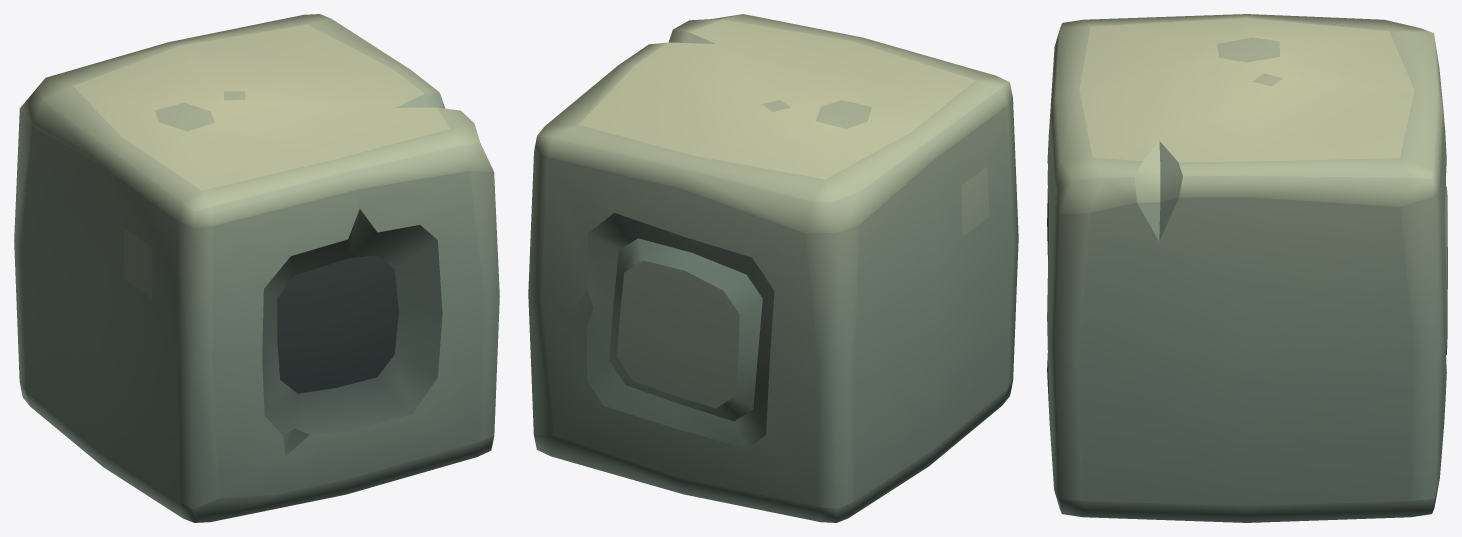
The model's file is Obstacle_MushroomFields.fbx.
3 views of the same model, side by side, from view 1: azimuth 30°, elevation 25°; view 2: azimuth 150°, elevation 25°; view 3: azimuth 270°, elevation 25° (orthographic). The views are drawn at different scales.
Visible parts, largest first — view 1: Obstacle_MushroomFields; view 2: Obstacle_MushroomFields; view 3: Obstacle_MushroomFields.
Part boxes in pixels (x1,y1,x2,y2): Obstacle_MushroomFields: (14, 14, 499, 522); Obstacle_MushroomFields: (528, 14, 1018, 522); Obstacle_MushroomFields: (1047, 14, 1447, 522).
Size of the model in its own units: 98.06 by 98.08 by 98.
1 material, 1 textured.
